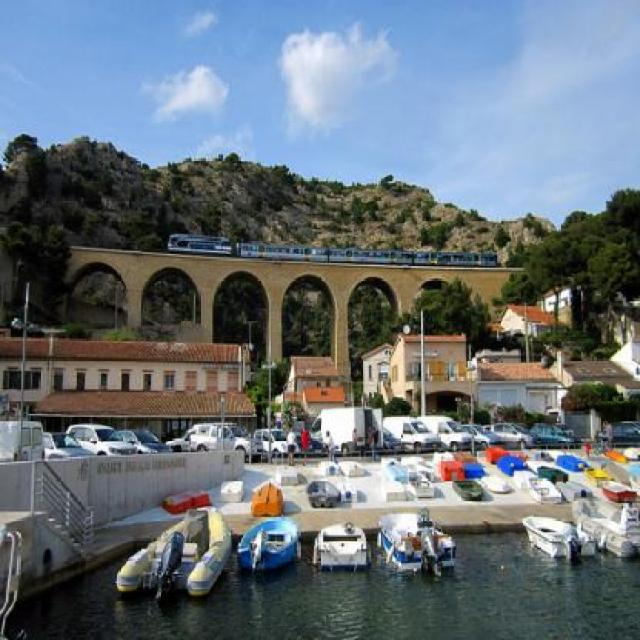ship: (109, 499, 228, 598), (374, 510, 460, 576), (570, 490, 638, 556), (236, 513, 299, 579), (520, 512, 598, 559), (316, 518, 366, 572), (250, 478, 284, 516), (598, 476, 638, 501), (304, 477, 338, 505), (406, 465, 434, 497), (448, 477, 484, 500), (526, 474, 556, 500), (536, 462, 569, 483), (481, 470, 508, 493), (583, 465, 612, 486)
